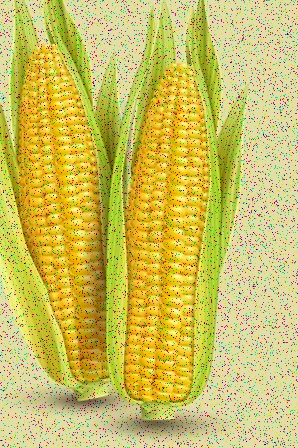corn: (5, 5, 125, 406), (110, 29, 225, 418)
